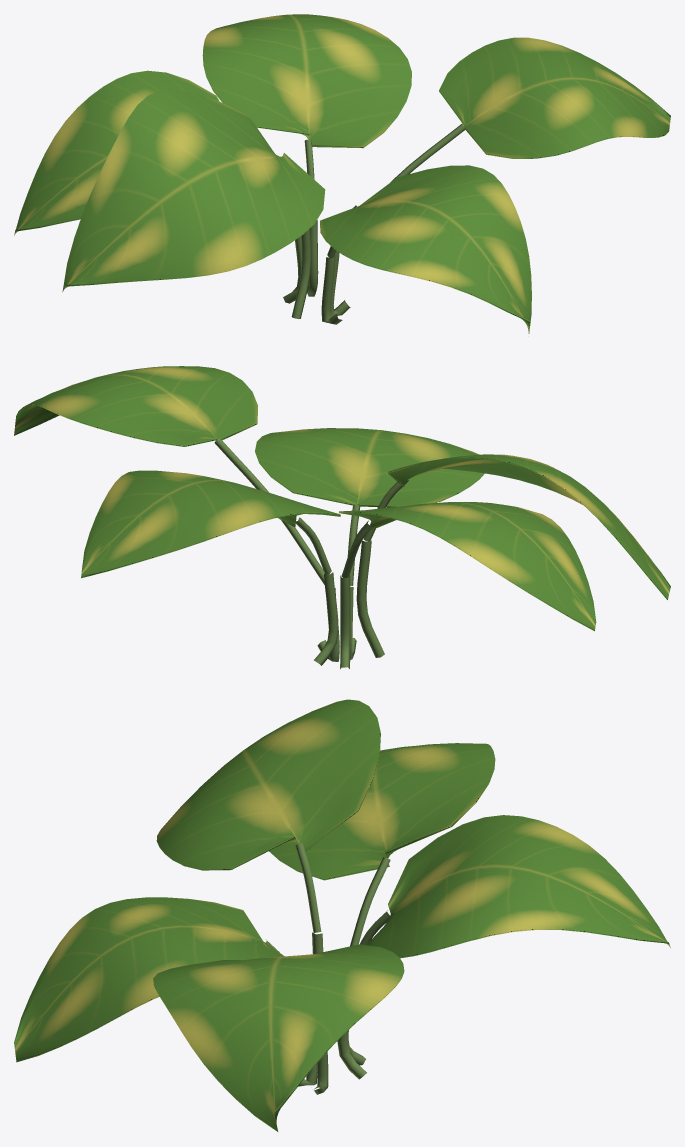
File: pothos-stage-1.glb
3 renders of one model, top to bottom at view 1: azimuth 30°, elevation 25°; view 2: azimuth 150°, elevation 25°; view 3: azimuth 270°, elevation 25°, orthographic. The views are drawn at different scales.
Visible parts, largest first — view 1: Leaf_2, Leaf_1, Leaf_0, Leaf_3, Leaf_4, PlantBranches; view 2: Leaf_1, Leaf_3, Leaf_0, Leaf_4, PlantBranches, Leaf_2; view 3: Leaf_1, Leaf_3, Leaf_2, Leaf_0, Leaf_4, PlantBranches.
Boxes of the visible parts, x1=… form: Leaf_2: x1=62, y1=89, x2=325, y2=292; Leaf_1: x1=202, y1=14, x2=411, y2=148; Leaf_0: x1=320, y1=165, x2=531, y2=333; Leaf_3: x1=439, y1=37, x2=670, y2=158; Leaf_4: x1=14, y1=70, x2=219, y2=235; PlantBranches: x1=283, y1=124, x2=465, y2=324; Leaf_1: x1=81, y1=470, x2=340, y2=578; Leaf_3: x1=14, y1=366, x2=257, y2=446; Leaf_0: x1=255, y1=428, x2=484, y2=507; Leaf_4: x1=339, y1=502, x2=596, y2=631; PlantBranches: x1=214, y1=438, x2=408, y2=669; Leaf_2: x1=388, y1=454, x2=670, y2=599; Leaf_1: x1=366, y1=815, x2=670, y2=958; Leaf_3: x1=153, y1=944, x2=404, y2=1131; Leaf_2: x1=156, y1=699, x2=380, y2=870; Leaf_0: x1=14, y1=897, x2=284, y2=1062; Leaf_4: x1=269, y1=743, x2=495, y2=880; PlantBranches: x1=265, y1=843, x2=390, y2=1094.
Bounding box in the file's own units: 1.71 × 0.656 × 1.35.
2 materials, 1 textured.
